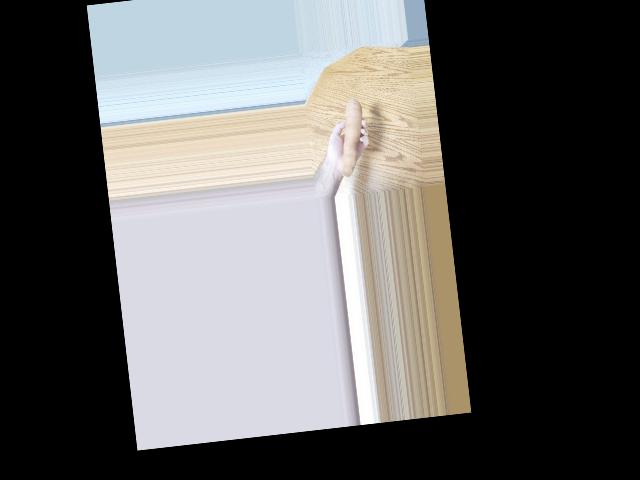sweet_potato: (330, 93, 372, 173)
